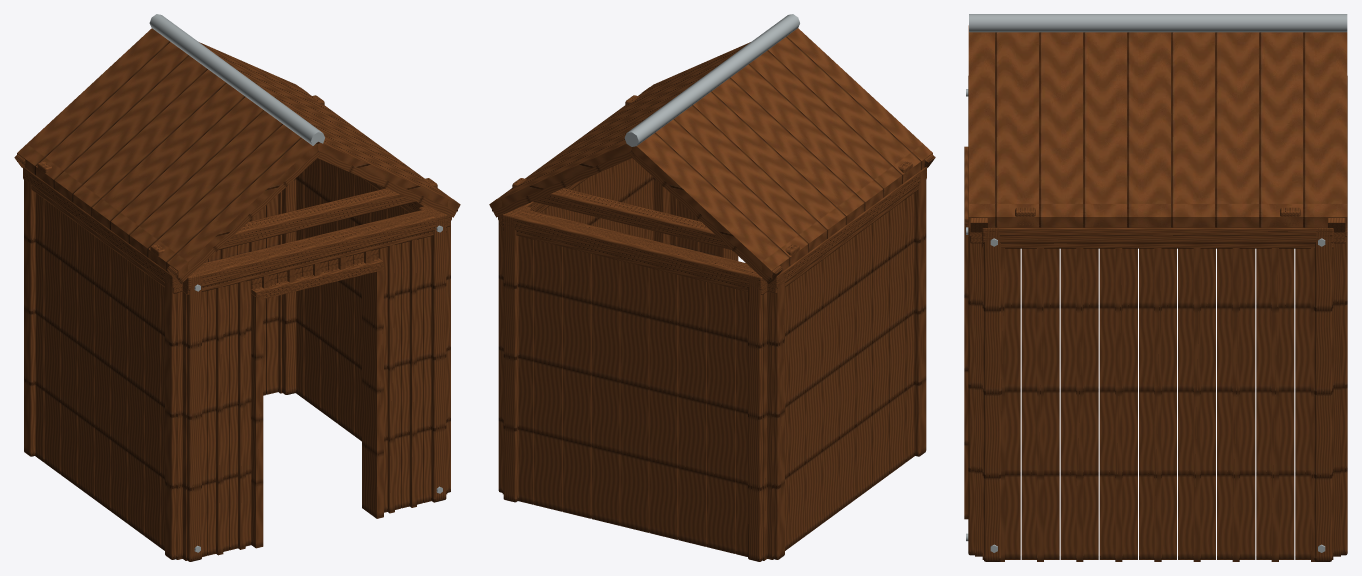
Rendered from rural-scavenging-settlements-cottage-entry-vestibule-634239ab__26514.glb.
3 views of the same model, side by side, from view 1: azimuth 30°, elevation 25°; view 2: azimuth 150°, elevation 25°; view 3: azimuth 270°, elevation 25° (orthographic). The views are drawn at different scales.
Visible parts, largest first — view 1: cottage-entry-vestibule; view 2: cottage-entry-vestibule; view 3: cottage-entry-vestibule.
Boxes of the visible parts, x1,y1,x2,y2 form: cottage-entry-vestibule: (14,14,460,561); cottage-entry-vestibule: (489,14,935,561); cottage-entry-vestibule: (964,14,1347,561).
Bounding box in the file's own units: 2.2 × 2.93 × 2.18.
Materials: 2 (1 with a texture image).
